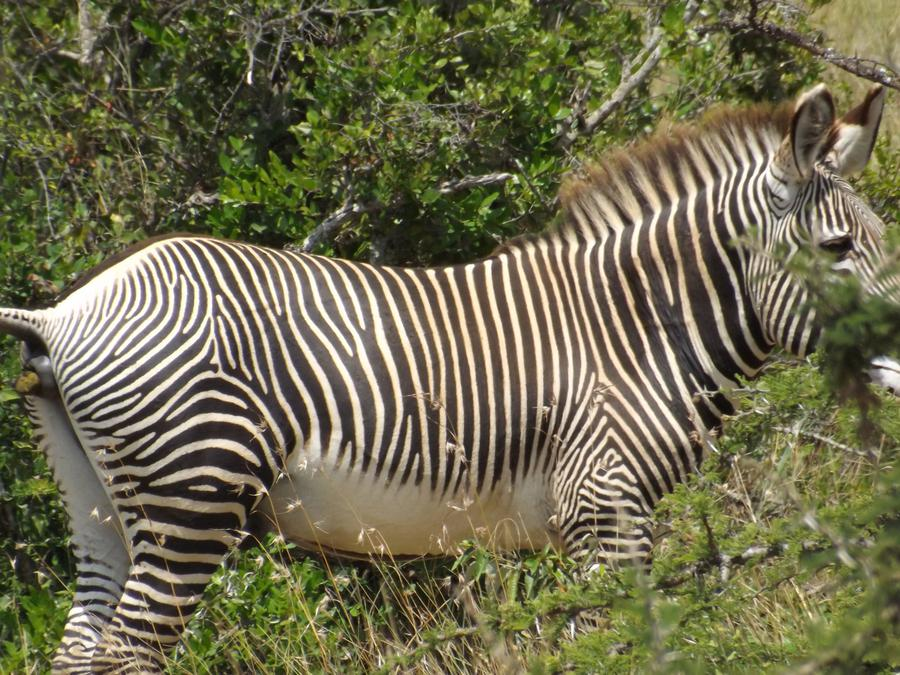zebra_grevys: (30, 202, 659, 519)
